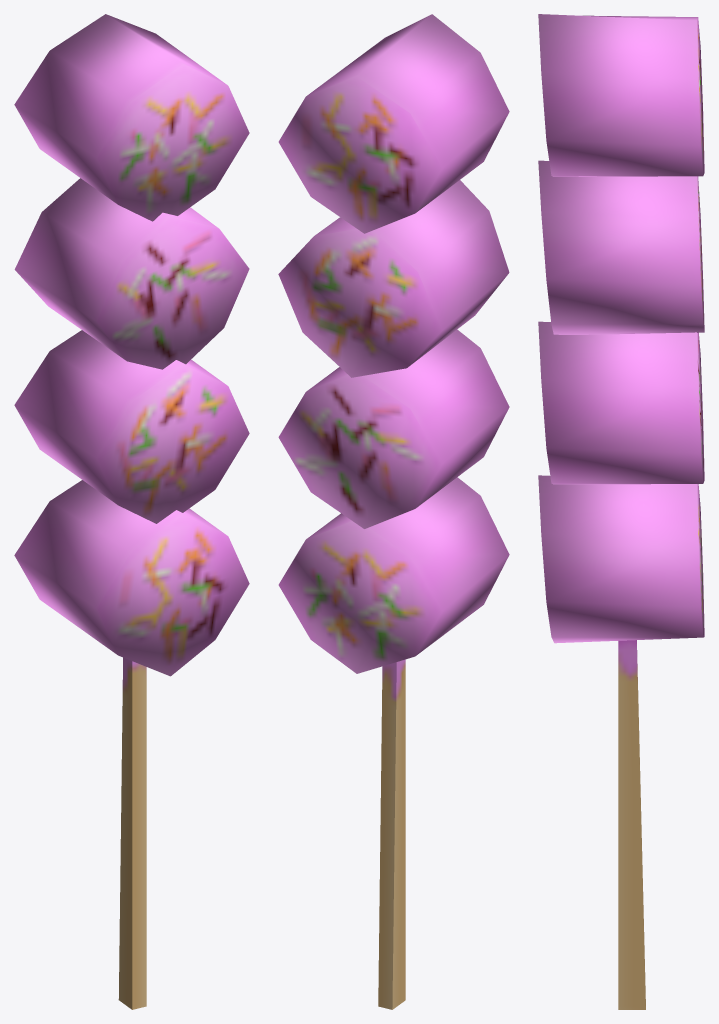
Rendered from jsf_ChocolateBanana_b02_c02.fbx.
3 views of the same model, side by side, from view 1: azimuth 30°, elevation 25°; view 2: azimuth 150°, elevation 25°; view 3: azimuth 270°, elevation 25° (orthographic). The views are drawn at different scales.
Visible parts, largest first — view 1: jsf_ChocolateBanana_b02_c02; view 2: jsf_ChocolateBanana_b02_c02; view 3: jsf_ChocolateBanana_b02_c02.
Part boxes in pixels (box(x1,y1,x2,y2)): jsf_ChocolateBanana_b02_c02: box(14, 14, 249, 1009); jsf_ChocolateBanana_b02_c02: box(278, 14, 509, 1009); jsf_ChocolateBanana_b02_c02: box(538, 14, 704, 1009).
Size of the model in its own units: 4.05 by 22.49 by 3.41.
